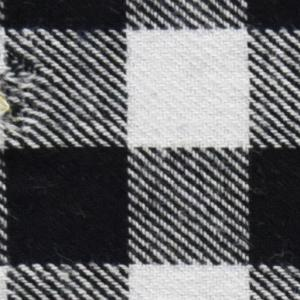Damage: (1, 39, 60, 150)
